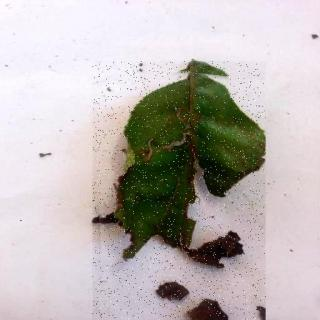Brown Blight: (94, 62, 267, 320)
